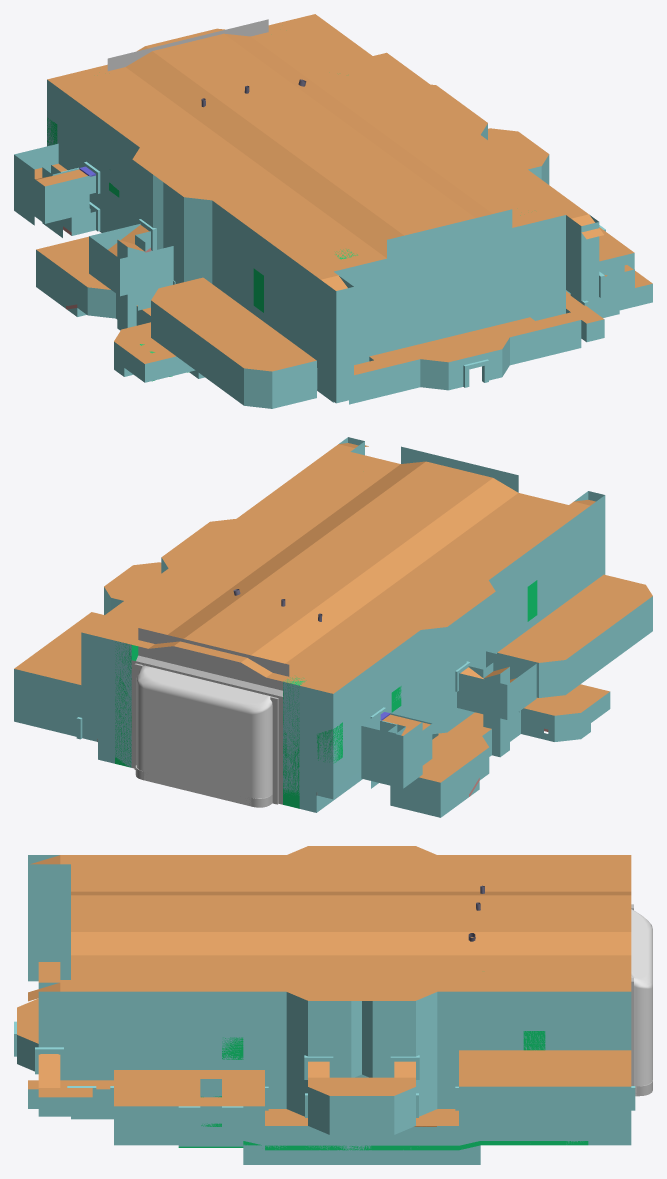
The model's file is Arena_002_Collision_Walls.fbx.
3 renders of one model, top to bottom at view 1: azimuth 30°, elevation 25°; view 2: azimuth 150°, elevation 25°; view 3: azimuth 270°, elevation 25°, orthographic. The views are drawn at different scales.
Parts seen in each view (by area): view 1: Arena_002_Collision_Walls; view 2: Arena_002_Collision_Walls; view 3: Arena_002_Collision_Walls.
Part boxes in pixels (x1,y1,x2,y2): Arena_002_Collision_Walls: (14, 14, 652, 408); Arena_002_Collision_Walls: (14, 437, 652, 817); Arena_002_Collision_Walls: (14, 846, 652, 1164).
Bounding box in the file's own units: 10200 × 3700 × 11858.
